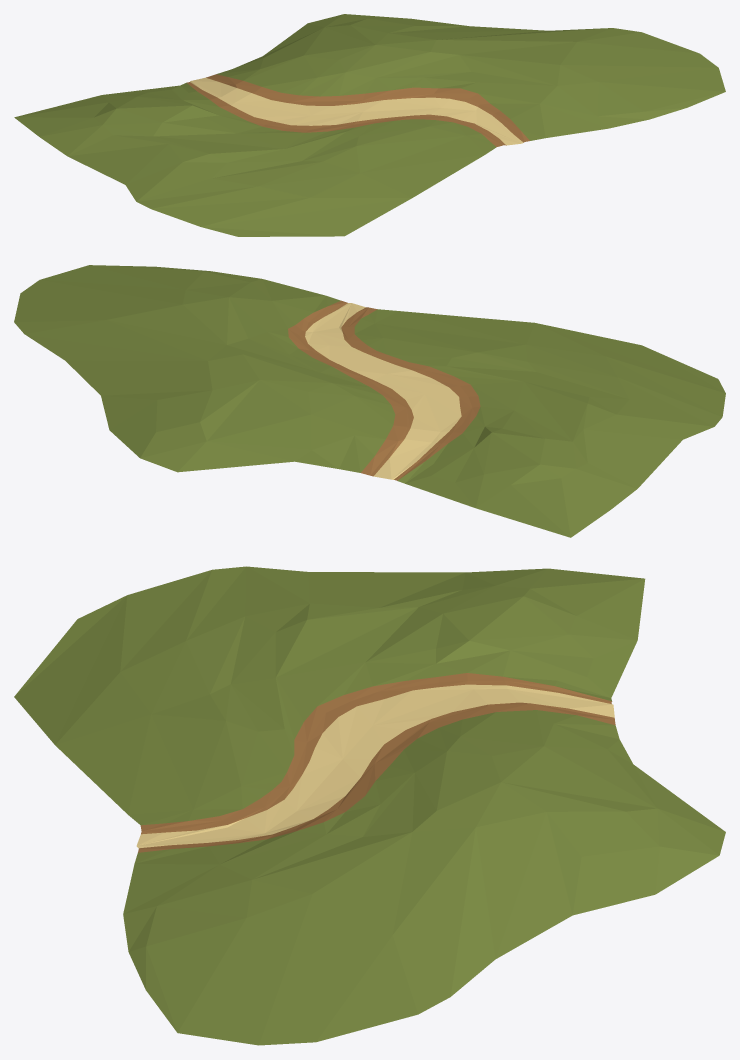
File: Terrain_Road_STurn-03.FBX
The picture shows the model from 3 angles, top to bottom: view 1: azimuth 30°, elevation 25°; view 2: azimuth 150°, elevation 25°; view 3: azimuth 270°, elevation 25°; orthographic projection. The views are drawn at different scales.
Parts seen in each view (by area): view 1: Terrain_Road_STurn-03; view 2: Terrain_Road_STurn-03; view 3: Terrain_Road_STurn-03.
Boxes of the visible parts, x1,y1,x2,y2 form: Terrain_Road_STurn-03: (14, 14, 725, 236); Terrain_Road_STurn-03: (14, 265, 725, 537); Terrain_Road_STurn-03: (14, 566, 725, 1045).
Bounding box in the file's own units: 7340 × 429 × 4773.
Materials: 1 (1 with a texture image).
